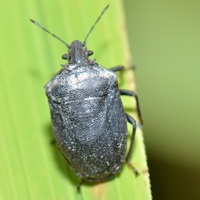insect: (30, 4, 140, 190)
